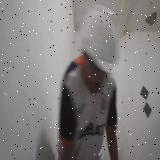Helmet: (78, 5, 122, 78)
